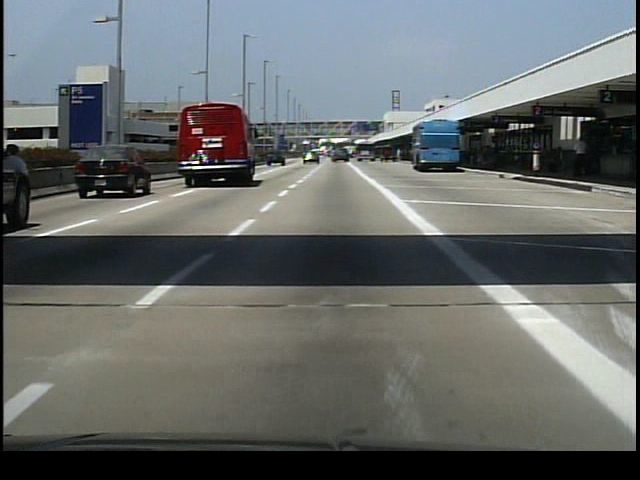person: (572, 135, 592, 181)
